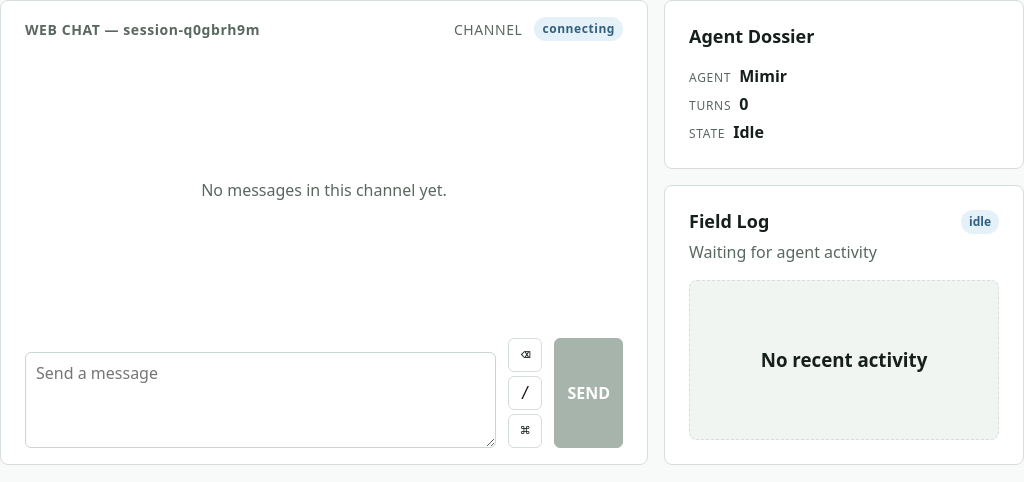
Test case: ChatRoute › supports compact composer utility controls without extra insert glyphs
Expected: the button named "Clear" reads "⌫", x1=508 y1=338 x2=542 y2=372
Expected: the button named "Skills" reads "/", x1=508 y1=376 x2=542 y2=410
Type "draft" into the text box labelled "message" at (261, 400), box x1=25 y1=352 x2=496 y2=448
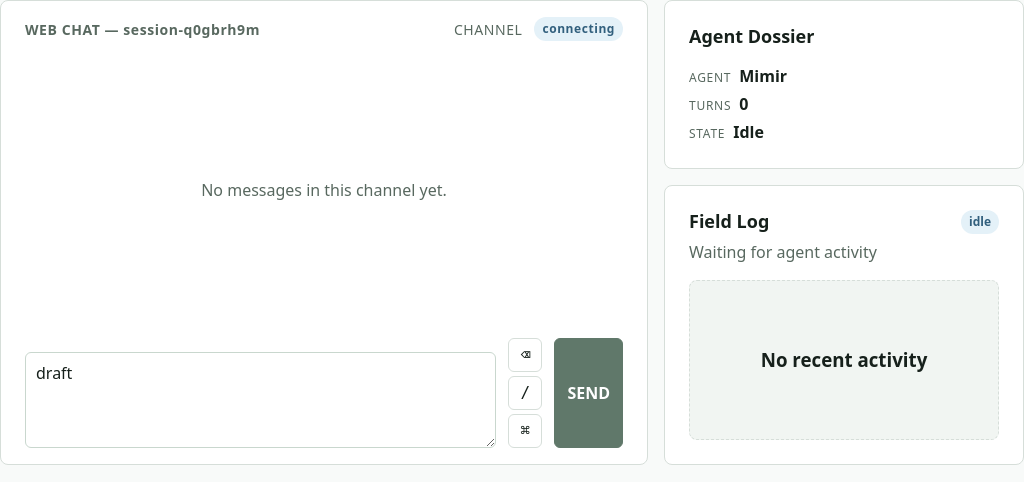
Click the button named "Clear" at (525, 355), box x1=508 y1=338 x2=542 y2=372
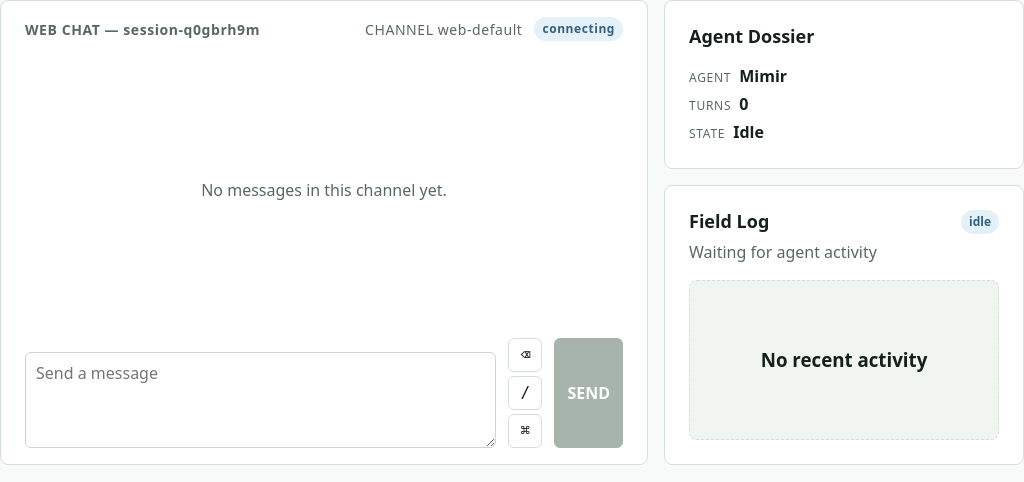
Now the text box labelled "message" is empty, box x1=25 y1=352 x2=496 y2=448
